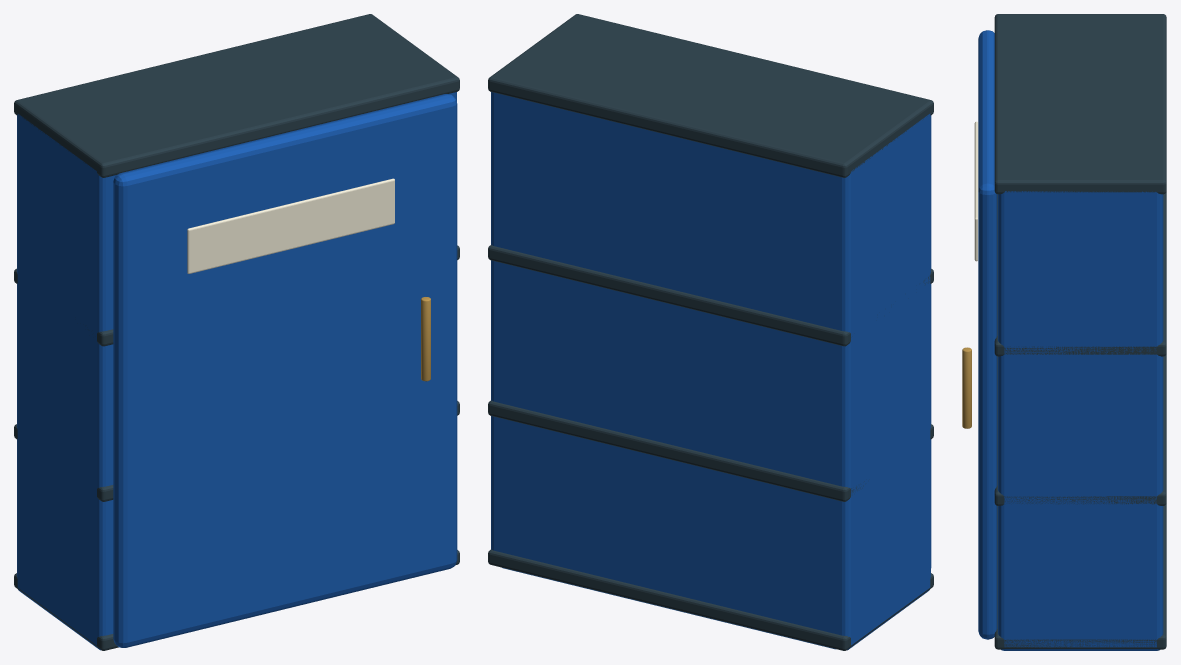
Rendered from PublicationCabinet.fbx.
3 views of the same model, side by side, from view 1: azimuth 30°, elevation 25°; view 2: azimuth 150°, elevation 25°; view 3: azimuth 270°, elevation 25° (orthographic). The views are drawn at different scales.
Visible parts, largest first — view 1: Separate cabinet door, Side.002, Shelf.008, Publication label, Door handle; view 2: Back.001, Side.002, Shelf.008, Shelf.005, Shelf.006, Shelf.007, Side.003; view 3: Side.003, Shelf.008, Separate cabinet door, Shelf.007, Shelf.005, Shelf.006, Door handle, Publication label.
Boxes of the visible parts, left/top/right/bottom form: Separate cabinet door: left=113, top=94, right=457, bottom=647; Side.002: left=17, top=114, right=116, bottom=650; Shelf.008: left=14, top=14, right=459, bottom=177; Publication label: left=187, top=178, right=394, bottom=273; Door handle: left=421, top=297, right=430, bottom=381; Back.001: left=501, top=94, right=835, bottom=649; Side.002: left=834, top=113, right=930, bottom=650; Shelf.008: left=488, top=14, right=933, bottom=177; Shelf.005: left=488, top=549, right=933, bottom=650; Shelf.006: left=488, top=400, right=933, bottom=501; Shelf.007: left=488, top=245, right=933, bottom=346; Side.003: left=491, top=92, right=501, bottom=552; Side.003: left=998, top=191, right=1163, bottom=650; Shelf.008: left=994, top=14, right=1166, bottom=194; Separate cabinet door: left=978, top=30, right=997, bottom=639; Shelf.007: left=994, top=192, right=1166, bottom=356; Shelf.005: left=994, top=503, right=1166, bottom=649; Shelf.006: left=994, top=354, right=1166, bottom=505; Door handle: left=962, top=347, right=971, bottom=428; Publication label: left=974, top=121, right=977, bottom=261.
Size of the model in its own units: 1.16 by 1.51 by 0.594.
